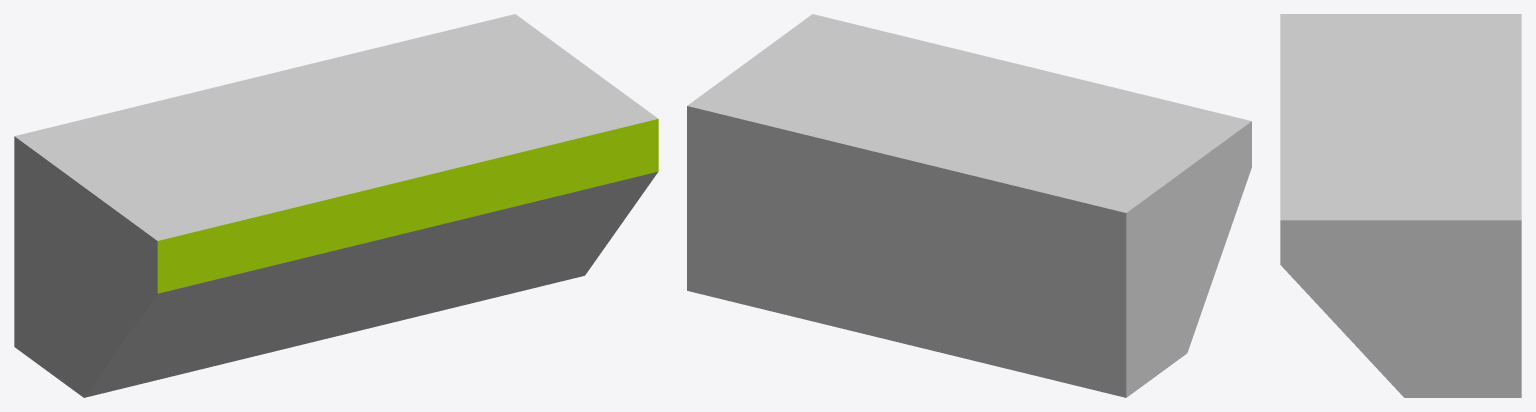
Rendered from WallAccentTable.fbx.
3 renders of one model, left to right at view 1: azimuth 30°, elevation 25°; view 2: azimuth 150°, elevation 25°; view 3: azimuth 270°, elevation 25°, orthographic. The views are drawn at different scales.
Visible parts, largest first — view 1: Cube; view 2: Cube; view 3: Cube.
Boxes of the visible parts, box(x1,y1,x2,y2) form: Cube: box(14, 14, 658, 397); Cube: box(687, 14, 1251, 397); Cube: box(1280, 14, 1521, 397).
Bounding box in the file's own units: 200 × 80.43 × 99.03.
